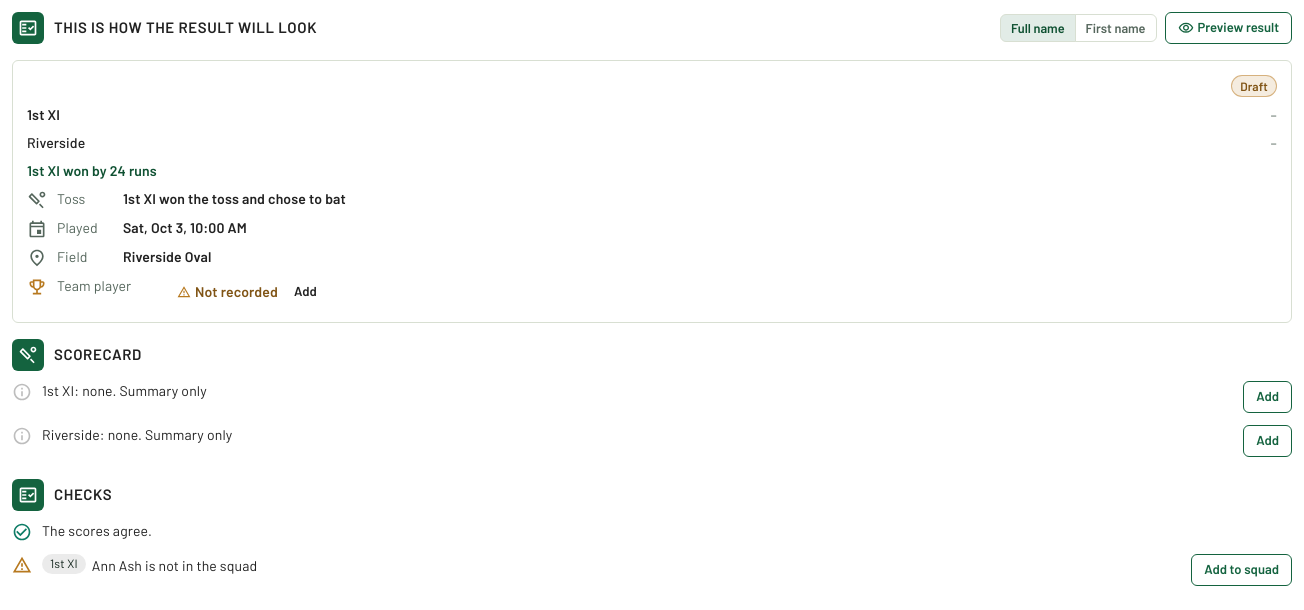
Review step: PLAYER_NOT_IN_SQUAD › shows a 403 refusal inline on that issue, keeps the warning and still revalidates
The image size is (1304, 610).
Click the button "Add to squad" at coordinates (1242, 570), box [1191, 554, 1292, 586]
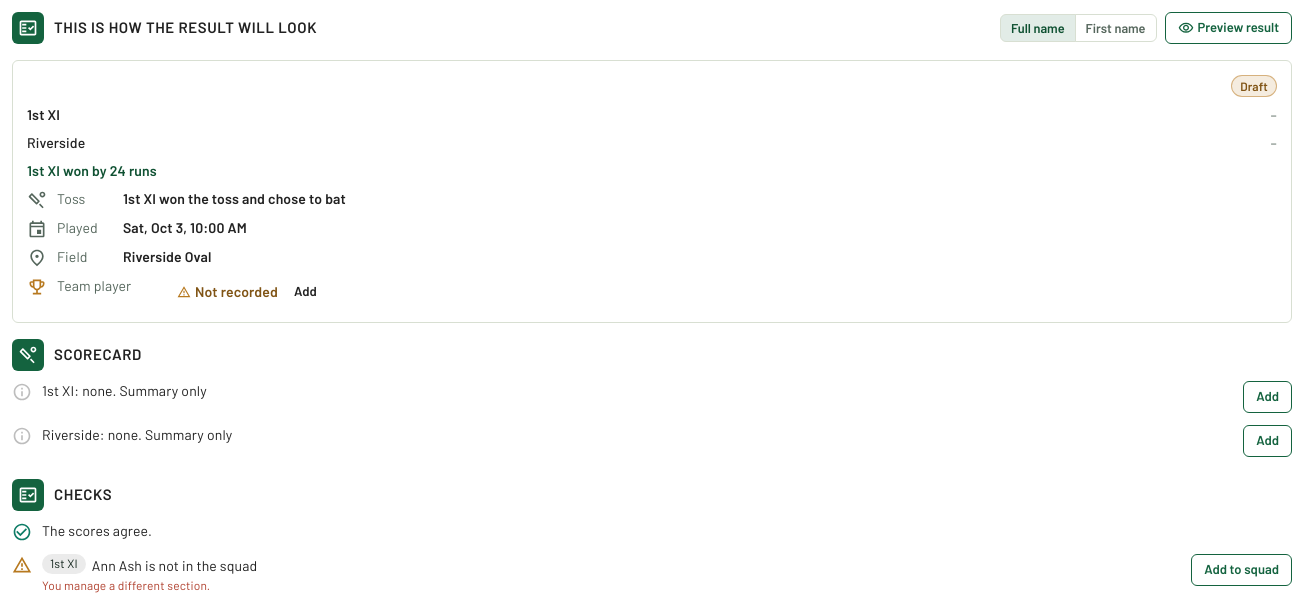
Expected: the text "Ann Ash is not in the squad" is shown, [92, 557, 257, 574]
Expected: the message reads "You manage a different section.", [42, 578, 210, 592]
